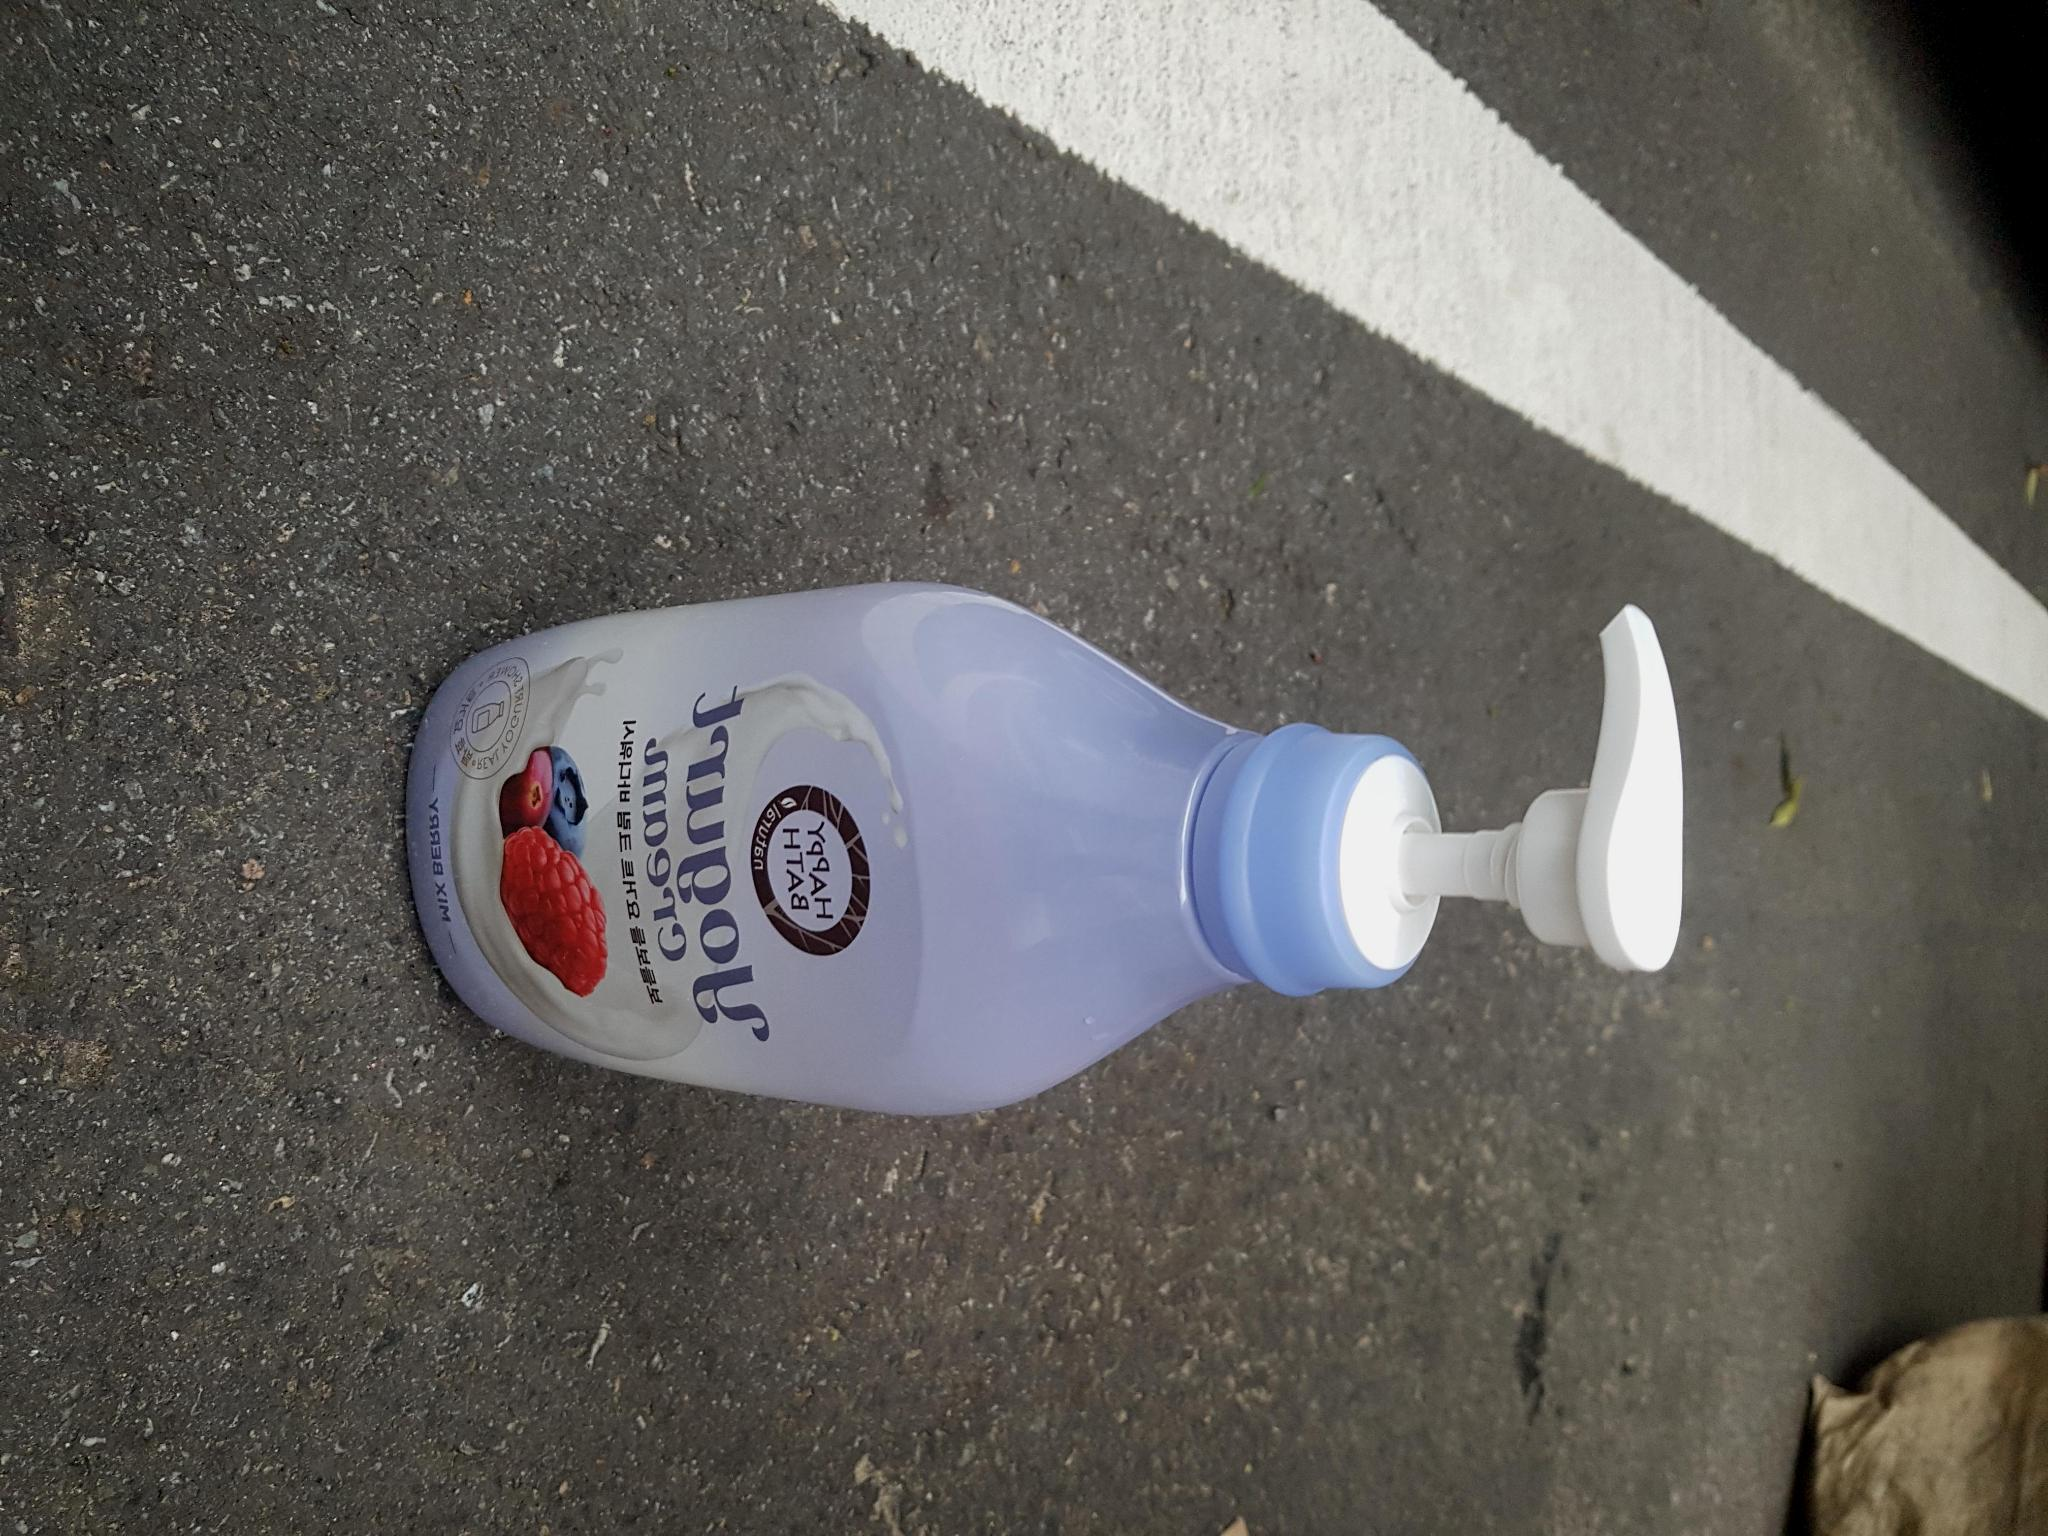bottle: (397, 573, 1693, 1136)
